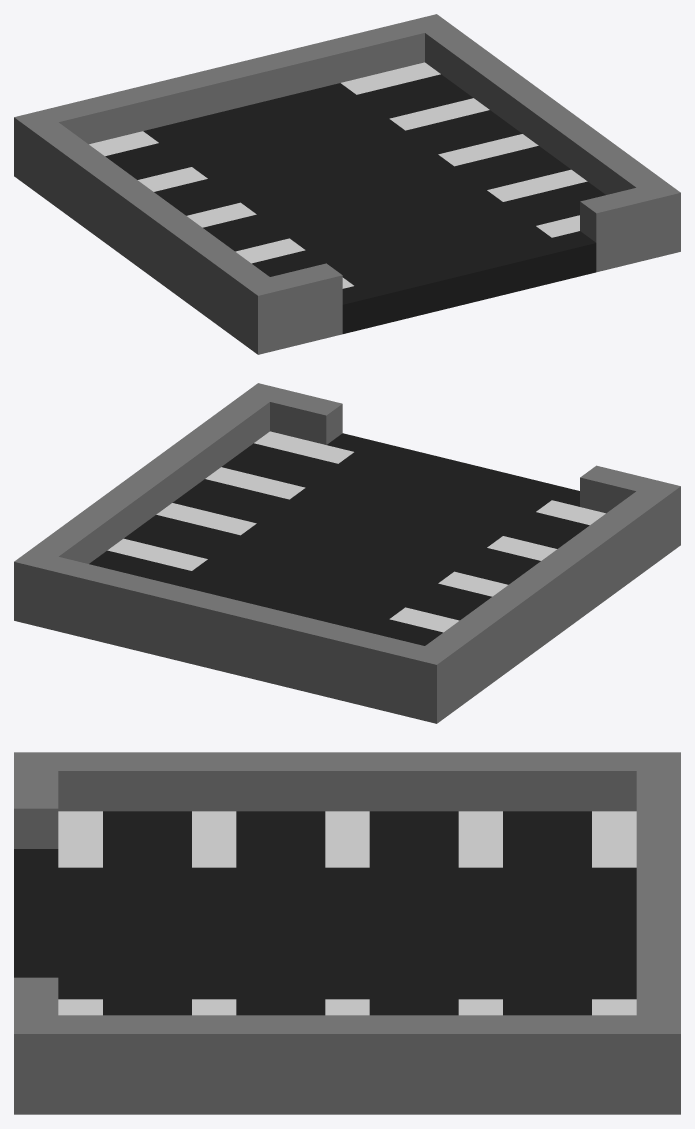
File: Parking.obj
3 renders of one model, top to bottom at view 1: azimuth 30°, elevation 25°; view 2: azimuth 150°, elevation 25°; view 3: azimuth 270°, elevation 25°, orthographic. The views are drawn at different scales.
Visible parts, largest first — view 1: Parking; view 2: Parking; view 3: Parking.
Boxes of the visible parts, x1=… form: Parking: x1=14, y1=14, x2=680, y2=354; Parking: x1=14, y1=383, x2=680, y2=723; Parking: x1=14, y1=752, x2=680, y2=1114.
Size of the model in its own units: 1.5 by 0.2 by 1.5.
Materials: 1 (1 with a texture image).
